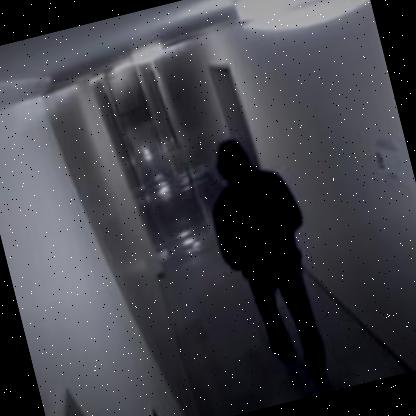person: (184, 116, 354, 406)
